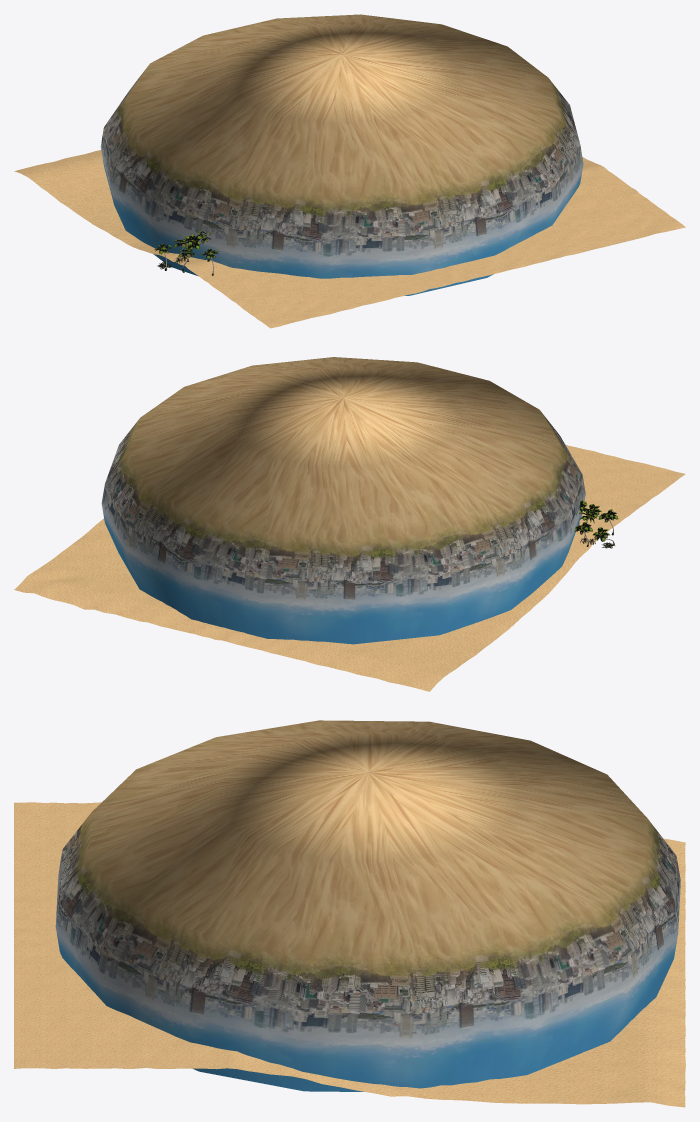
The model's file is Beach.glb.
3 views of the same model, one above another, from view 1: azimuth 30°, elevation 25°; view 2: azimuth 150°, elevation 25°; view 3: azimuth 270°, elevation 25° (orthographic). The views are drawn at different scales.
Parts seen in each view (by area): view 1: Beach; view 2: Beach; view 3: Beach.
Part boxes in pixels (x1,y1,x2,y2): Beach: (14,14,685,328); Beach: (14,357,685,691); Beach: (14,720,685,1107).
Bounding box in the file's own units: 1177 × 405 × 1201.
6 materials, 6 textured.
